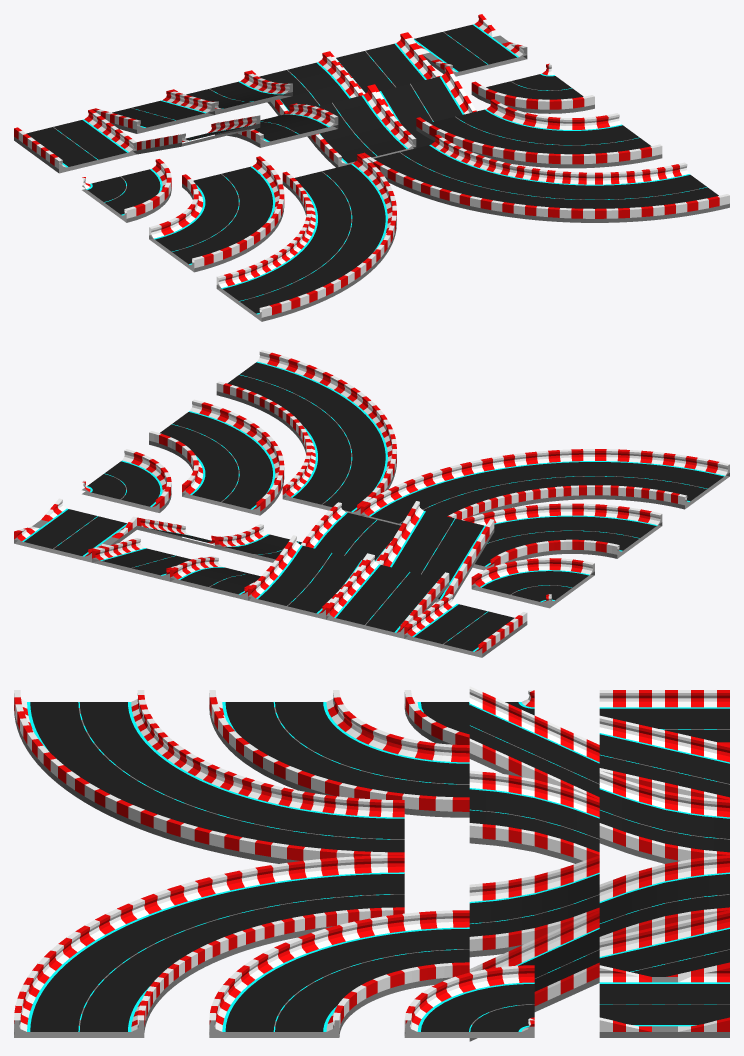
Rendered from Modular Tracks Wall.fbx.
The picture shows the model from 3 angles, top to bottom: view 1: azimuth 30°, elevation 25°; view 2: azimuth 150°, elevation 25°; view 3: azimuth 270°, elevation 25°; orthographic projection. The views are drawn at different scales.
Visible parts, largest first — view 1: Wide Right Turn, Wide Left Turn, Wide Left Turn Wall, Right Turn, Left Turn, Wide Right Turn Wall, Left Turn Wall, Smooth Ramp Down 2, Straight Ahead Start & End, Straight Ahead, Steep Ramp Down 27°, Right Turn Wall (+19 smaller); view 2: Wide Left Turn, Wide Right Turn, Wide Right Turn Wall, Left Turn, Right Turn, Wide Left Turn Wall, Steep Ramp Up 14°, Smooth Ramp Up 1, Steep Ramp Up 27°, Right Turn Wall, Straight Ahead Start & End, Straight Ahead (+19 smaller); view 3: Wide Left Turn, Wide Right Turn, Left Turn, Right Turn, Wide Left Turn Wall, Wide Right Turn Wall, Left Turn Wall, Right Turn Wall, Straight Ahead Start & End, Tight Left Turn, Smooth Ramp Up 2, Smooth Ramp Up 1 (+21 smaller).
Part boxes in pixels (x1,y1,x2,y2): Wide Right Turn: (216,163,396,321); Wide Left Turn: (374,144,729,222); Wide Left Turn Wall: (361,134,729,218); Right Turn: (149,166,284,272); Left Turn: (416,109,662,168); Wide Right Turn Wall: (216,153,396,317); Left Turn Wall: (416,99,662,164); Smooth Ramp Down 2: (307,95,416,167); Straight Ahead Start & End: (414,24,527,76); Straight Ahead: (14,119,136,173); Steep Ramp Down 27°: (379,76,464,147); Right Turn Wall: (149,156,284,268); Wide Left Turn: (216,361,396,515); Wide Right Turn: (360,461,729,525); Wide Right Turn Wall: (360,449,729,519); Left Turn: (149,411,284,515); Right Turn: (473,515,662,570); Wide Left Turn Wall: (216,350,396,511); Steep Ramp Up 14°: (326,564,449,638); Smooth Ramp Up 1: (248,545,361,619); Steep Ramp Up 27°: (390,511,494,602); Right Turn Wall: (461,503,662,566); Straight Ahead Start & End: (14,508,136,562); Straight Ahead: (404,604,527,657); Wide Left Turn: (14,872,404,1037); Wide Right Turn: (14,702,404,863); Left Turn: (209,927,469,1037); Right Turn: (209,702,469,817); Wide Left Turn Wall: (14,855,404,1031); Wide Right Turn Wall: (14,690,404,860); Left Turn Wall: (209,910,469,1031); Right Turn Wall: (209,690,469,811); Straight Ahead Start & End: (599,977,729,1037); Tight Left Turn: (404,982,534,1037); Smooth Ramp Up 2: (469,788,599,863); Smooth Ramp Up 1: (599,788,729,863).
Size of the model in its own units: 120 by 23 by 110.
